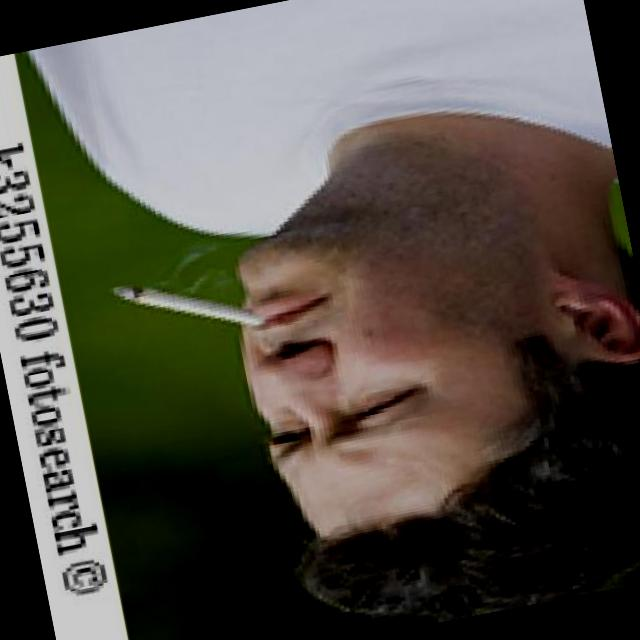smoke: (106, 254, 268, 354)
